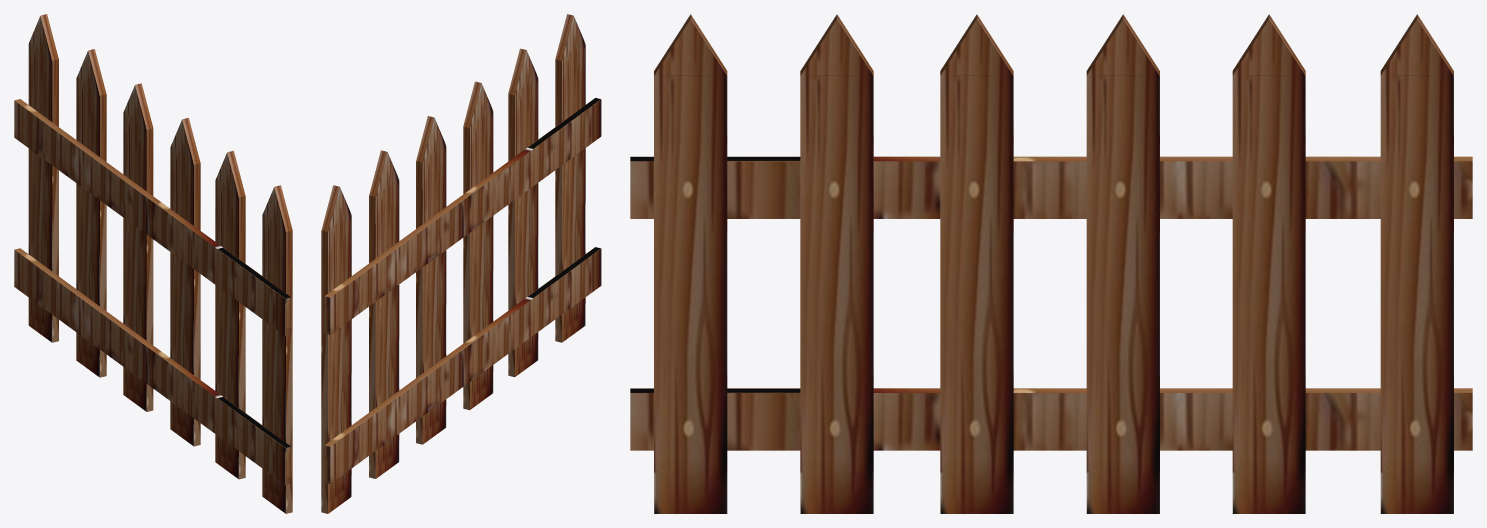
File: Fences.fbx
3 views of the same model, side by side, from view 1: azimuth 30°, elevation 25°; view 2: azimuth 150°, elevation 25°; view 3: azimuth 270°, elevation 25° (orthographic). The views are drawn at different scales.
Parts seen in each view (by area): view 1: Horizontal; view 2: Horizontal; view 3: Horizontal.
Part boxes in pixels (bbox=[...]): Horizontal: bbox=[14, 14, 292, 513]; Horizontal: bbox=[321, 14, 601, 513]; Horizontal: bbox=[630, 14, 1472, 513].
Bounding box in the file's own units: 0.1113 × 2.26 × 3.49.
